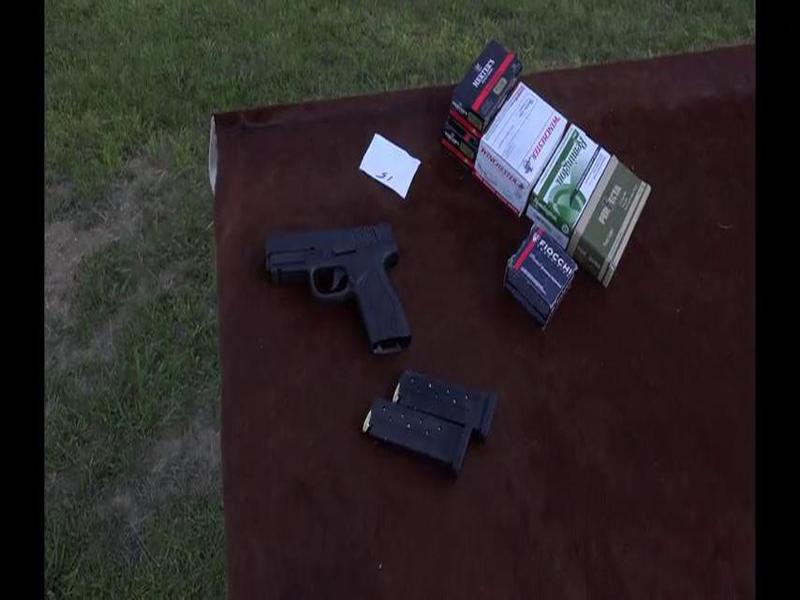Pistola: (249, 211, 407, 347)
